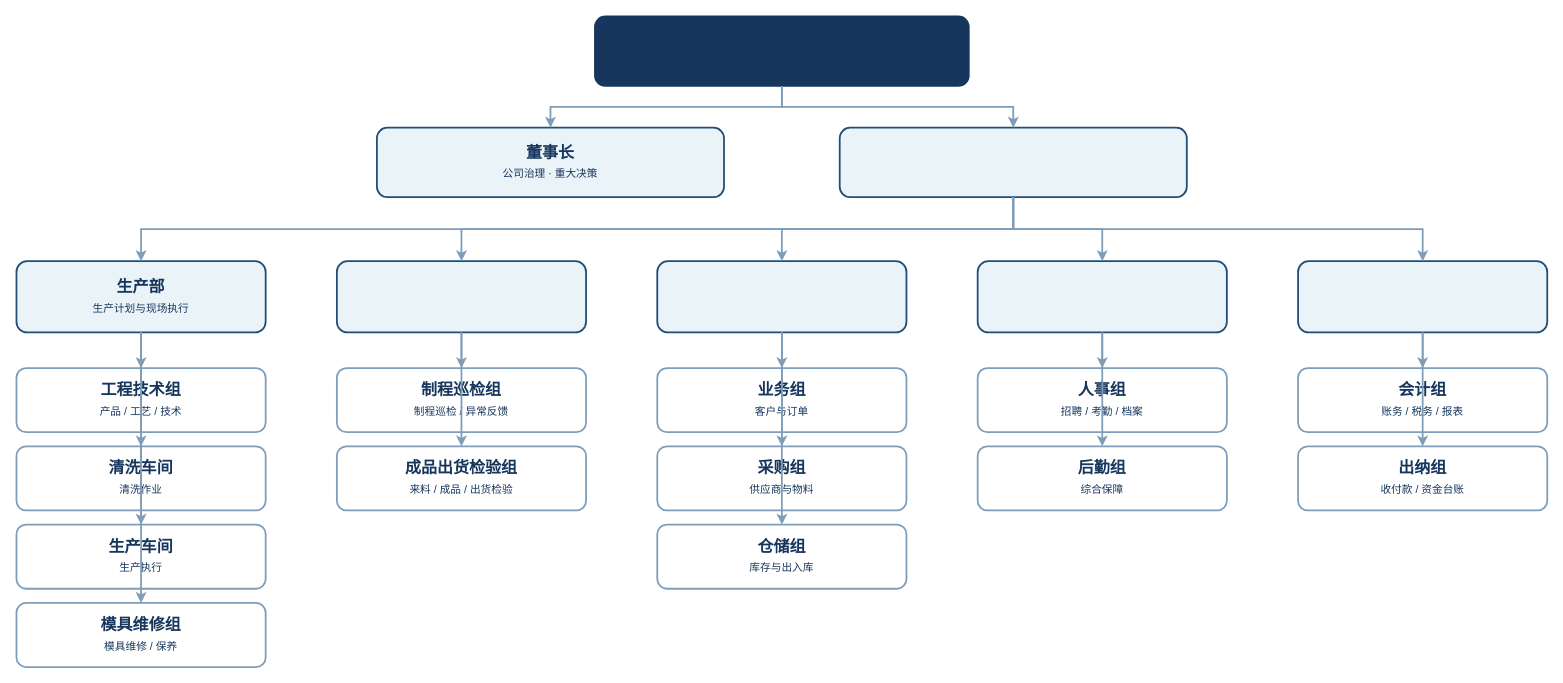
Image size: 1563x683. Some labels were removed from this diagram. Each missing label, with the centre of its shape:
"品质部 来料、制程与出货质量" belongs at point (461, 296).
"总经理 经营管理 · 统一协调" belongs at point (1012, 162).
"行政部 人事与后勤管理" belongs at point (1101, 296).
"财务部 会计与出纳管理" belongs at point (1422, 296).
"运营部 业务、采购与仓储运营" belongs at point (781, 296).
"鑫犇电子有限公司 公司组织单元 · 管理概念" belongs at point (781, 50).
